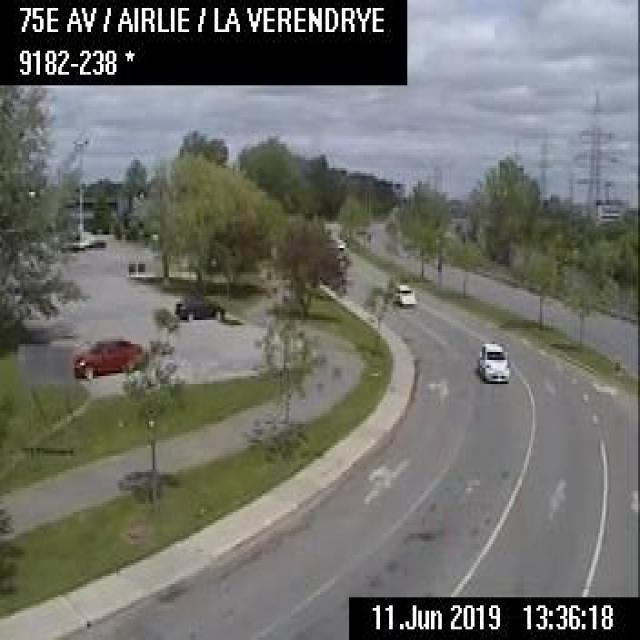vehicle: (72, 335, 146, 379), (474, 339, 510, 384), (172, 293, 224, 319), (392, 283, 413, 305)
